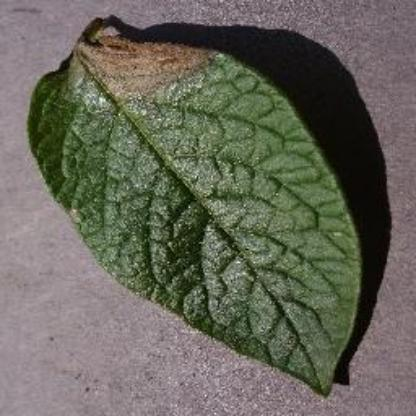Late-Blight: (22, 21, 370, 399)
